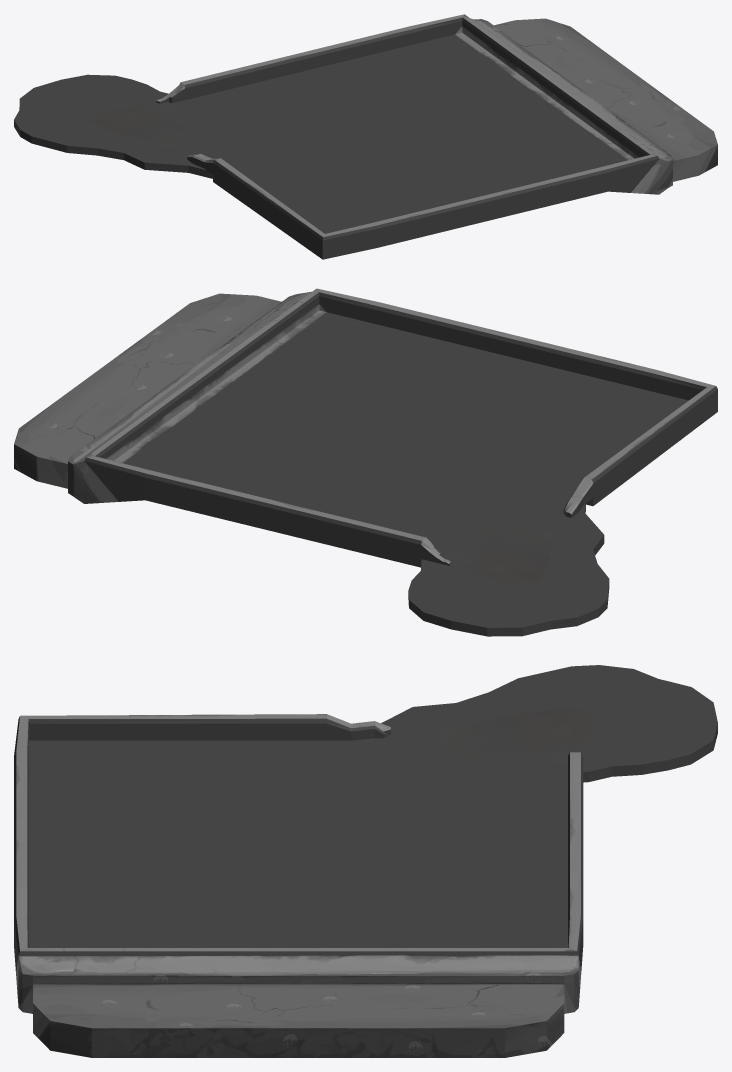
File: TEST_main_part_map_tft.obj
The picture shows the model from 3 angles, top to bottom: view 1: azimuth 30°, elevation 25°; view 2: azimuth 150°, elevation 25°; view 3: azimuth 270°, elevation 25°; orthographic projection. The views are drawn at different scales.
Parts seen in each view (by area): view 1: Cube; view 2: Cube; view 3: Cube.
Boxes of the visible parts, bbox=[...] form: Cube: bbox=[14, 14, 717, 259]; Cube: bbox=[14, 288, 717, 636]; Cube: bbox=[14, 665, 717, 1057].
Bounding box in the file's own units: 22.42 × 1.61 × 18.3.
